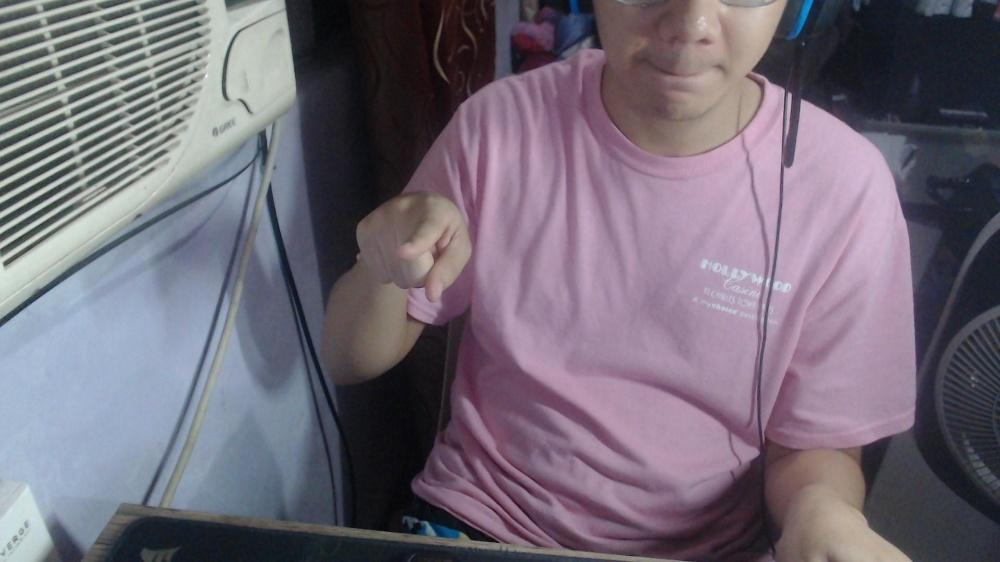z: (351, 189, 479, 306)
